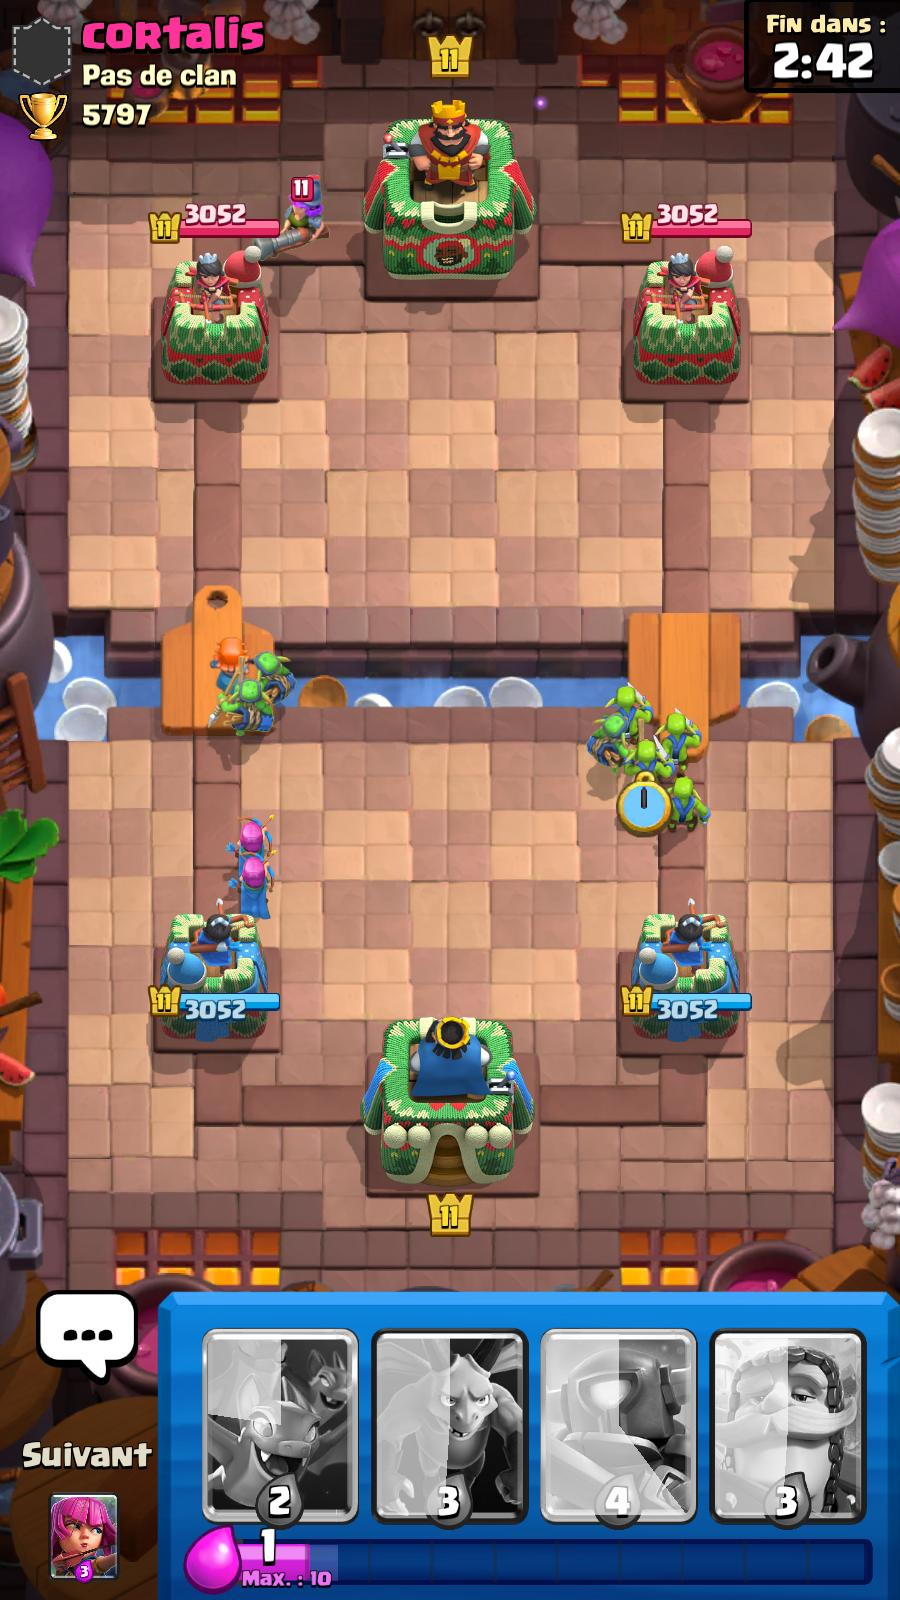archere: (214, 810, 292, 875), (219, 855, 288, 921)
gobelin: (591, 670, 658, 745), (669, 779, 724, 852), (623, 735, 684, 801), (577, 707, 637, 758), (660, 705, 707, 771)
gobelin_lances: (201, 686, 280, 748), (246, 648, 300, 715)
mousquetaire: (265, 169, 340, 262)
valkyrie: (203, 627, 265, 711)
